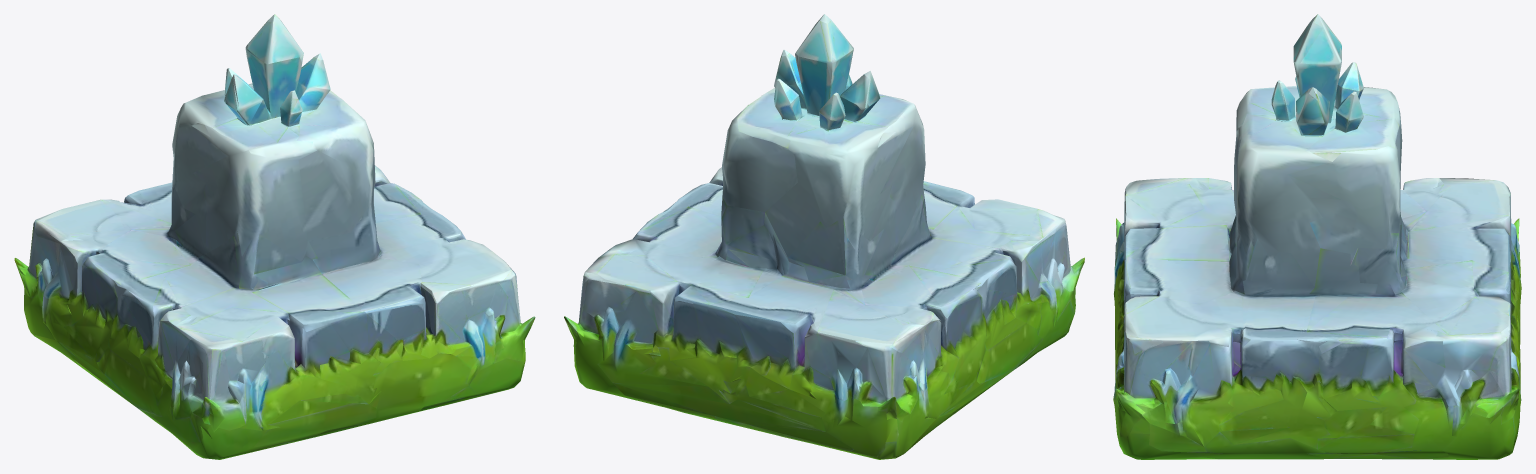
The model's file is ice-1.glb.
3 views of the same model, side by side, from view 1: azimuth 30°, elevation 25°; view 2: azimuth 150°, elevation 25°; view 3: azimuth 270°, elevation 25° (orthographic). The views are drawn at different scales.
Size of the model in its own units: 1.9 by 1.88 by 1.9.
1 material, 1 textured.
